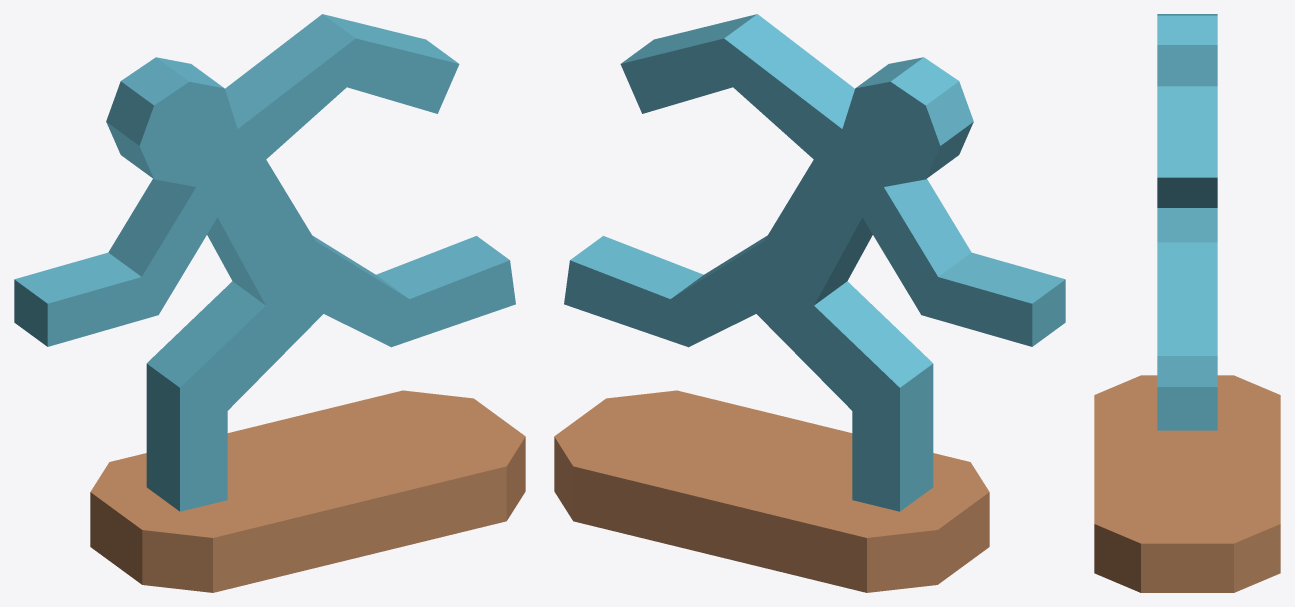
Rendered from figurine.glb.
3 views of the same model, side by side, from view 1: azimuth 30°, elevation 25°; view 2: azimuth 150°, elevation 25°; view 3: azimuth 270°, elevation 25° (orthographic). The views are drawn at different scales.
Visible parts, largest first — view 1: mesh_figurine_01; view 2: mesh_figurine_01; view 3: mesh_figurine_01.
Part boxes in pixels (bbox=[...]): mesh_figurine_01: bbox=[14, 14, 525, 592]; mesh_figurine_01: bbox=[554, 14, 1065, 592]; mesh_figurine_01: bbox=[1094, 14, 1280, 592].
Bounding box in the file's own units: 0.094 × 0.093 × 0.036.
1 material, 1 textured.
